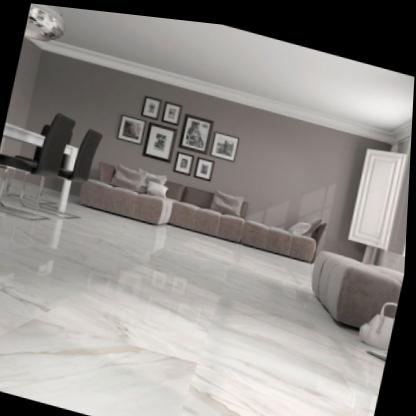Ceramic floor: (0, 201, 390, 416)
